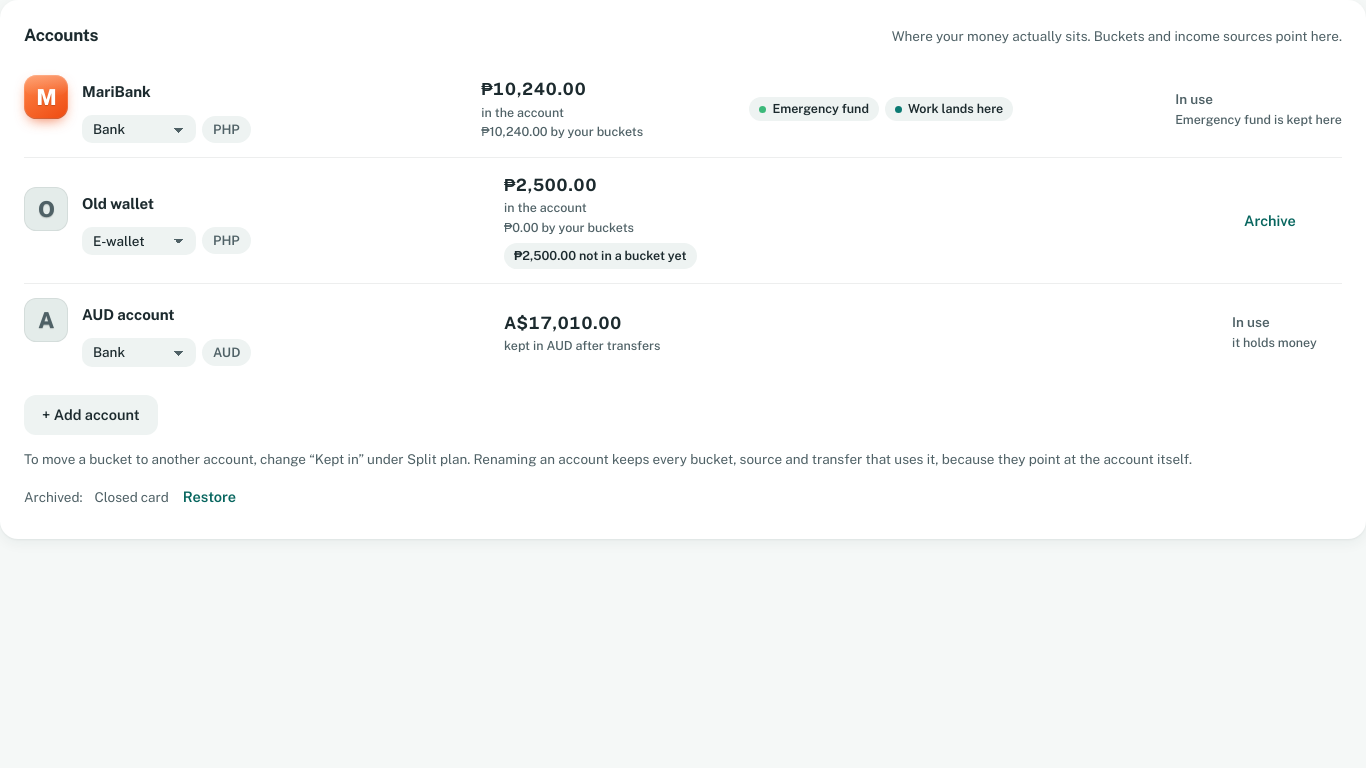
Test case: AccountsPanel › Add account: shows the server's duplicate-name error inline and keeps the form open
Click the button "+ Add account" at (91, 415), box [24,395,158,435]
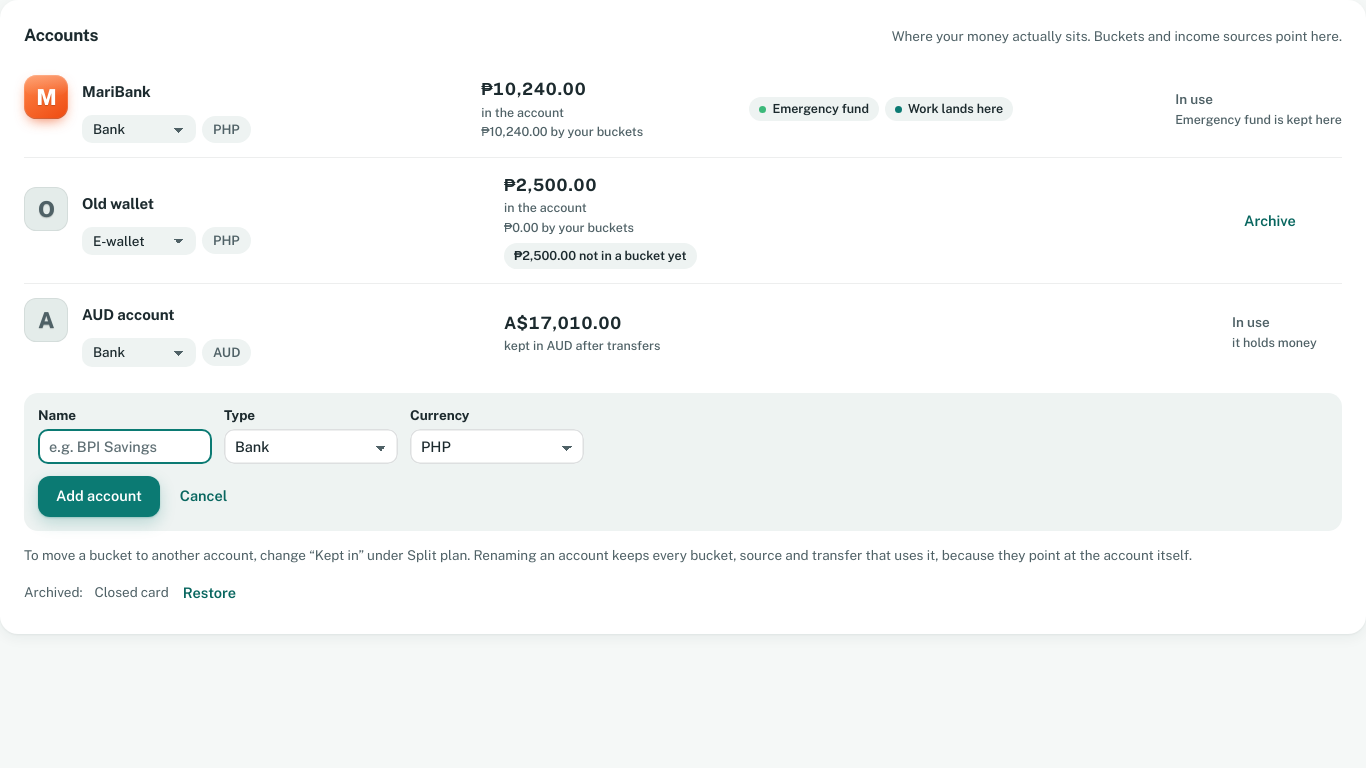
Type "GCash" into the field labelled "Name" at (125, 446), box [38,429,212,464]
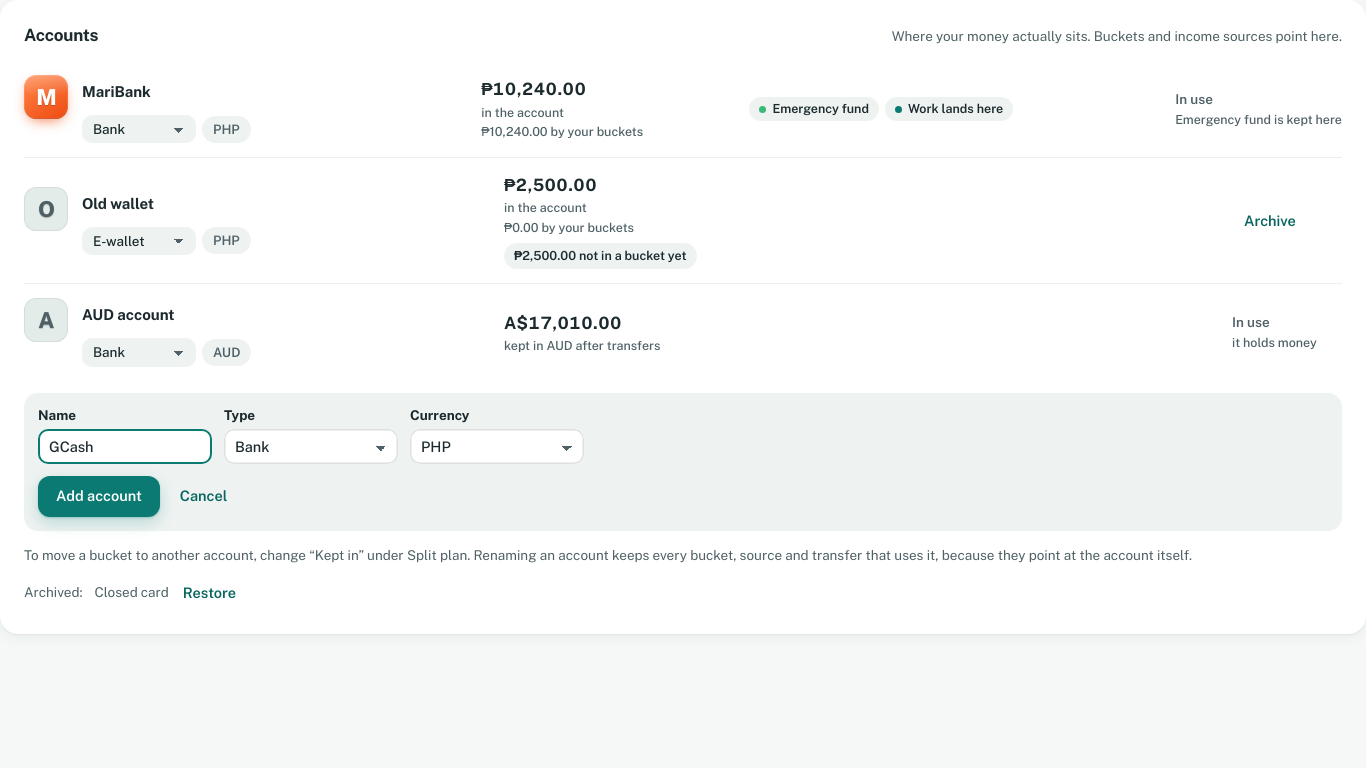
Select "AUD" in the dropdown labelled "Currency" at (497, 446), box [410,429,584,464]
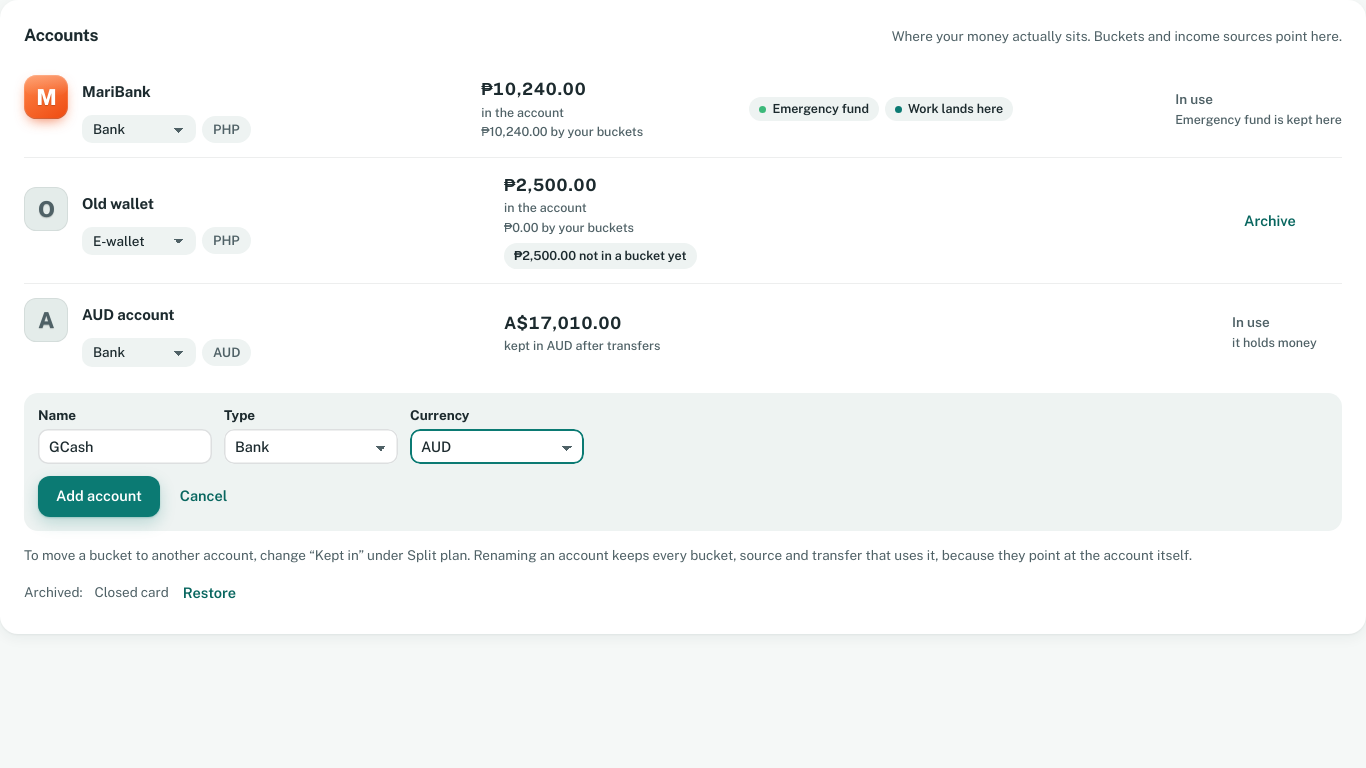
Click the button "Add account" at (99, 496), box [38,476,160,517]
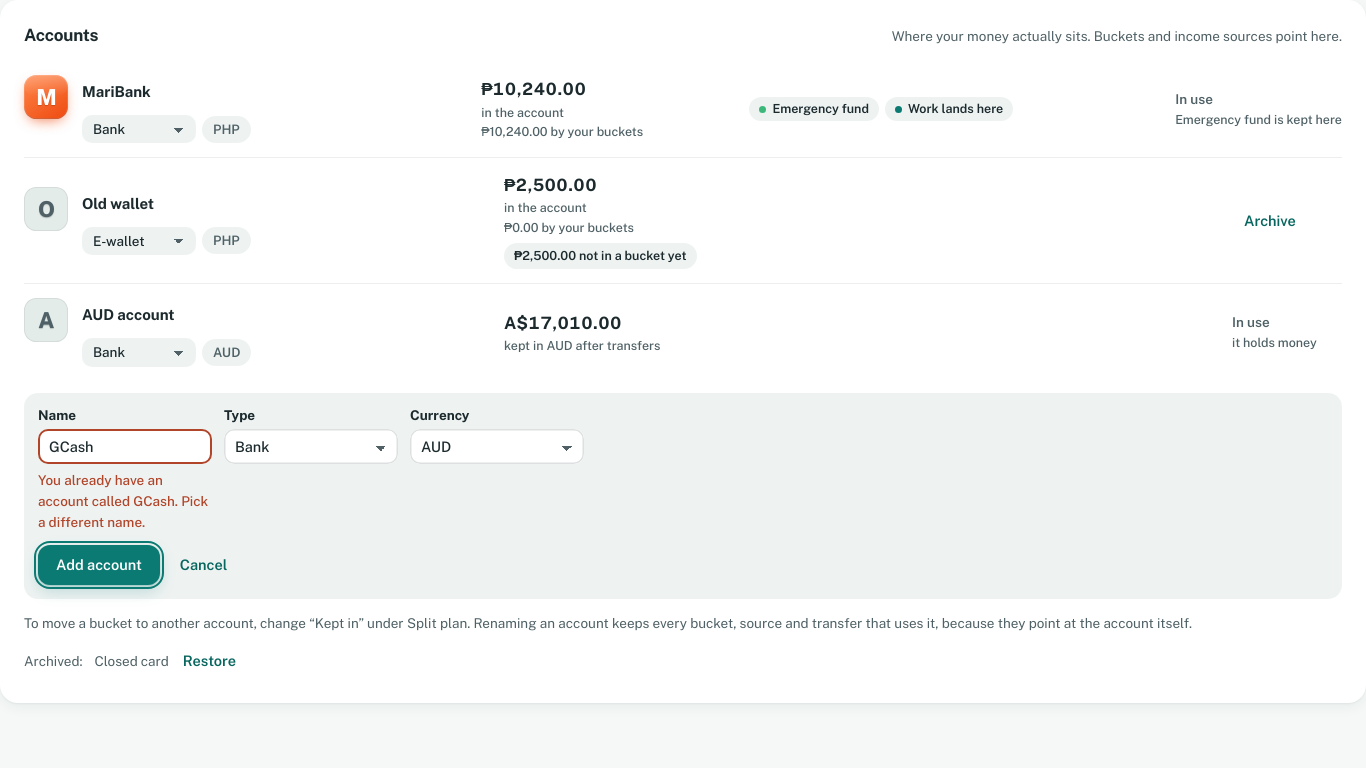
Now the text "You already have an account called GCash. Pick a different name." is shown, box [38,470,212,533]
